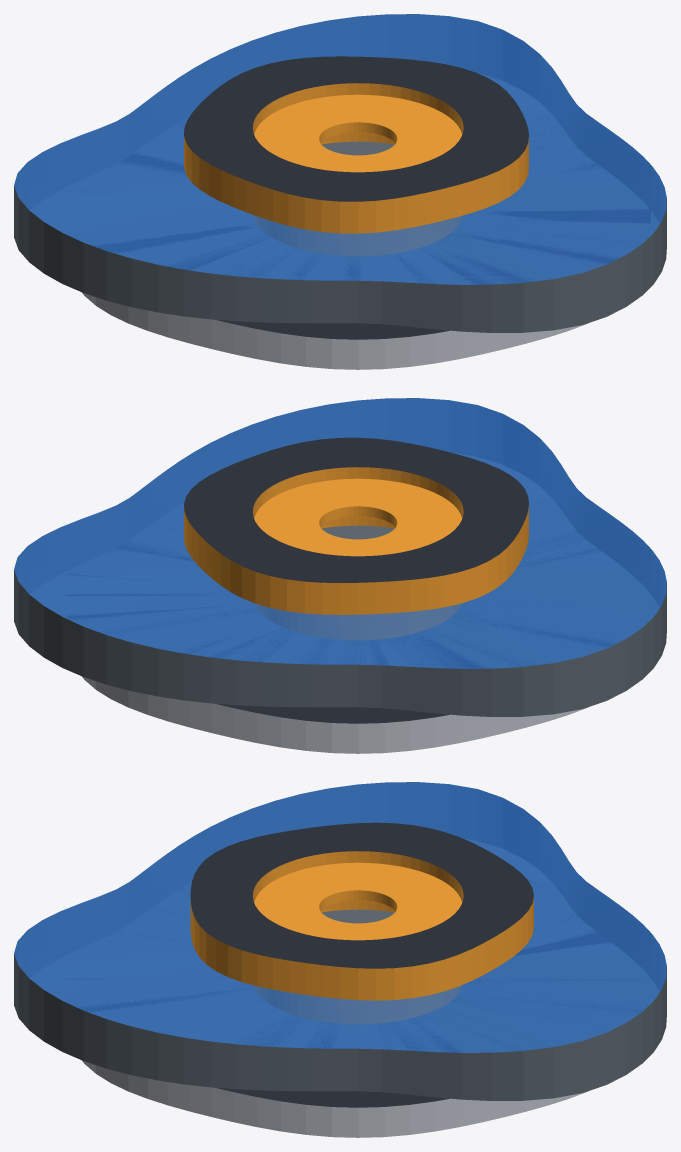
Rendered from assembly_phase2b_tip_needle_stamina.glb.
The picture shows the model from 3 angles, top to bottom: view 1: azimuth 30°, elevation 25°; view 2: azimuth 150°, elevation 25°; view 3: azimuth 270°, elevation 25°; orthographic projection.
Visible parts, largest first — view 1: GEO_blade_storm_fang_BODY, GEO_core_solar_wolf_BODY, GEO_assist_heavy_BODY, GEO_core_solar_wolf_NSS_V1_COLLAR, GEO_blade_storm_fang_NSS_V1_COLLAR; view 2: GEO_blade_storm_fang_BODY, GEO_core_solar_wolf_BODY, GEO_assist_heavy_BODY, GEO_core_solar_wolf_NSS_V1_COLLAR, GEO_blade_storm_fang_NSS_V1_COLLAR; view 3: GEO_blade_storm_fang_BODY, GEO_core_solar_wolf_BODY, GEO_assist_heavy_BODY, GEO_core_solar_wolf_NSS_V1_COLLAR, GEO_blade_storm_fang_NSS_V1_COLLAR.
Part boxes in pixels (x1,y1,x2,y2): GEO_blade_storm_fang_BODY: [14, 14, 666, 332]; GEO_core_solar_wolf_BODY: [184, 56, 528, 233]; GEO_assist_heavy_BODY: [81, 121, 650, 369]; GEO_core_solar_wolf_NSS_V1_COLLAR: [254, 94, 462, 172]; GEO_blade_storm_fang_NSS_V1_COLLAR: [321, 141, 394, 155]; GEO_blade_storm_fang_BODY: [14, 398, 666, 716]; GEO_core_solar_wolf_BODY: [184, 437, 528, 614]; GEO_assist_heavy_BODY: [65, 507, 613, 753]; GEO_core_solar_wolf_NSS_V1_COLLAR: [254, 478, 462, 556]; GEO_blade_storm_fang_NSS_V1_COLLAR: [321, 525, 394, 539]; GEO_blade_storm_fang_BODY: [14, 782, 666, 1100]; GEO_core_solar_wolf_BODY: [190, 822, 533, 1000]; GEO_assist_heavy_BODY: [69, 879, 650, 1137]; GEO_core_solar_wolf_NSS_V1_COLLAR: [254, 862, 462, 940]; GEO_blade_storm_fang_NSS_V1_COLLAR: [321, 909, 394, 923].
Size of the model in its own units: 0.0664 by 0.0259 by 0.0669.
